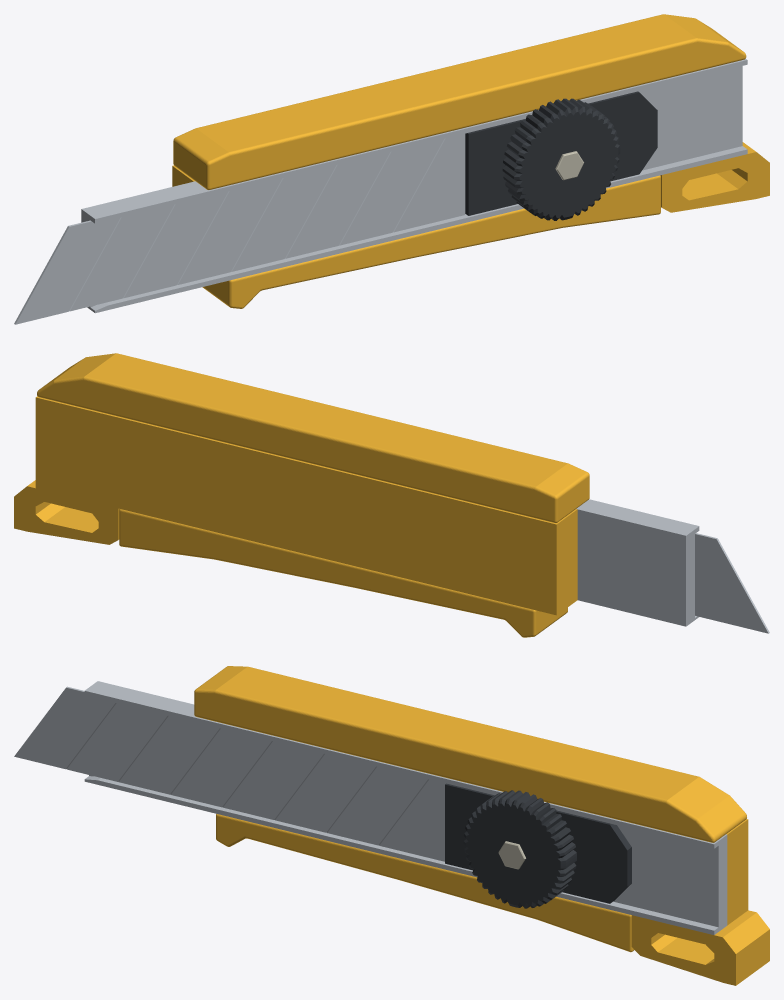
The picture shows the model from 3 angles, top to bottom: view 1: azimuth 30°, elevation 25°; view 2: azimuth 150°, elevation 25°; view 3: azimuth 330°, elevation 25°; orthographic projection. The views are drawn at different scales.
Visible parts, largest first — view 1: Segmented_blade_stock_finite_scored, Upper_molded_grip_rail, Lower_curved_molded_grip_rail, Wheel_lock_knurled_rim, Metal_channel_backing, Estimated_static_blade_carrier, Lower_nose_and_channel_guide, Hooked_tail_with_through_lanyard_aperture, Upper_nose_and_channel_guide, Wheel_central_hex_fastener; view 2: Rear_handle_web, Upper_molded_grip_rail, Metal_channel_backing, Lower_curved_molded_grip_rail, Hooked_tail_with_through_lanyard_aperture, Segmented_blade_stock_finite_scored, Upper_nose_and_channel_guide; view 3: Upper_molded_grip_rail, Segmented_blade_stock_finite_scored, Wheel_lock_knurled_rim, Lower_curved_molded_grip_rail, Metal_channel_backing, Estimated_static_blade_carrier, Hooked_tail_with_through_lanyard_aperture, Lower_nose_and_channel_guide, Upper_nose_and_channel_guide, Rear_handle_web, Wheel_central_hex_fastener.
Boxes of the visible parts, x1,y1,x2,y2 form: Segmented_blade_stock_finite_scored: (14, 133, 465, 324); Upper_molded_grip_rail: (173, 14, 746, 189); Lower_curved_molded_grip_rail: (202, 175, 660, 308); Wheel_lock_knurled_rim: (502, 98, 620, 220); Metal_channel_backing: (81, 66, 742, 309); Estimated_static_blade_carrier: (465, 91, 657, 215); Lower_nose_and_channel_guide: (90, 146, 747, 313); Hooked_tail_with_through_lanyard_aperture: (660, 142, 769, 212); Upper_nose_and_channel_guide: (90, 58, 747, 223); Wheel_central_hex_fastener: (555, 151, 583, 180); Rear_handle_web: (35, 396, 577, 615); Upper_molded_grip_rail: (37, 353, 589, 522); Metal_channel_backing: (576, 502, 694, 626); Lower_curved_molded_grip_rail: (119, 509, 567, 637); Hooked_tail_with_through_lanyard_aperture: (14, 480, 119, 544); Segmented_blade_stock_finite_scored: (695, 533, 769, 633); Upper_nose_and_channel_guide: (585, 499, 699, 533); Upper_molded_grip_rail: (194, 666, 746, 842); Segmented_blade_stock_finite_scored: (14, 686, 445, 861); Wheel_lock_knurled_rim: (463, 790, 576, 908); Lower_curved_molded_grip_rail: (216, 814, 634, 952); Metal_channel_backing: (89, 681, 727, 931); Estimated_static_blade_carrier: (445, 783, 631, 903); Hooked_tail_with_through_lanyard_aperture: (631, 910, 769, 985); Lower_nose_and_channel_guide: (84, 776, 718, 934); Upper_nose_and_channel_guide: (84, 687, 718, 848); Rear_handle_web: (726, 819, 748, 925); Wheel_central_hex_fastener: (498, 841, 525, 869).
Bounding box in the file's own units: 0.167 × 0.037 × 0.02.
